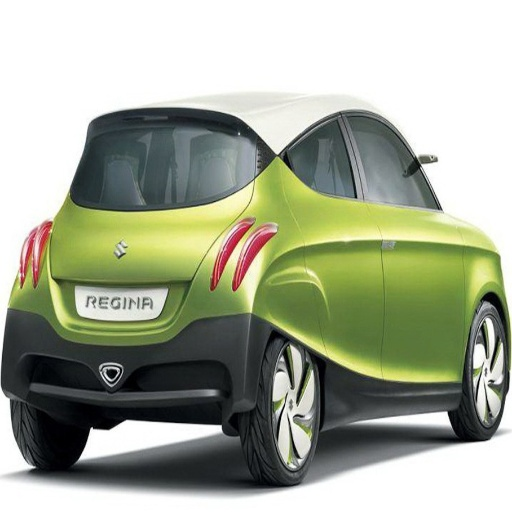back_bumper: (3, 288, 261, 410)
back_glass: (72, 129, 237, 210)
back_left_door: (162, 115, 221, 169)
back_left_light: (17, 223, 51, 287)
back_right_door: (288, 110, 366, 314)
tailgate: (40, 208, 187, 327)
trunk: (347, 207, 485, 355), (157, 231, 205, 324)
